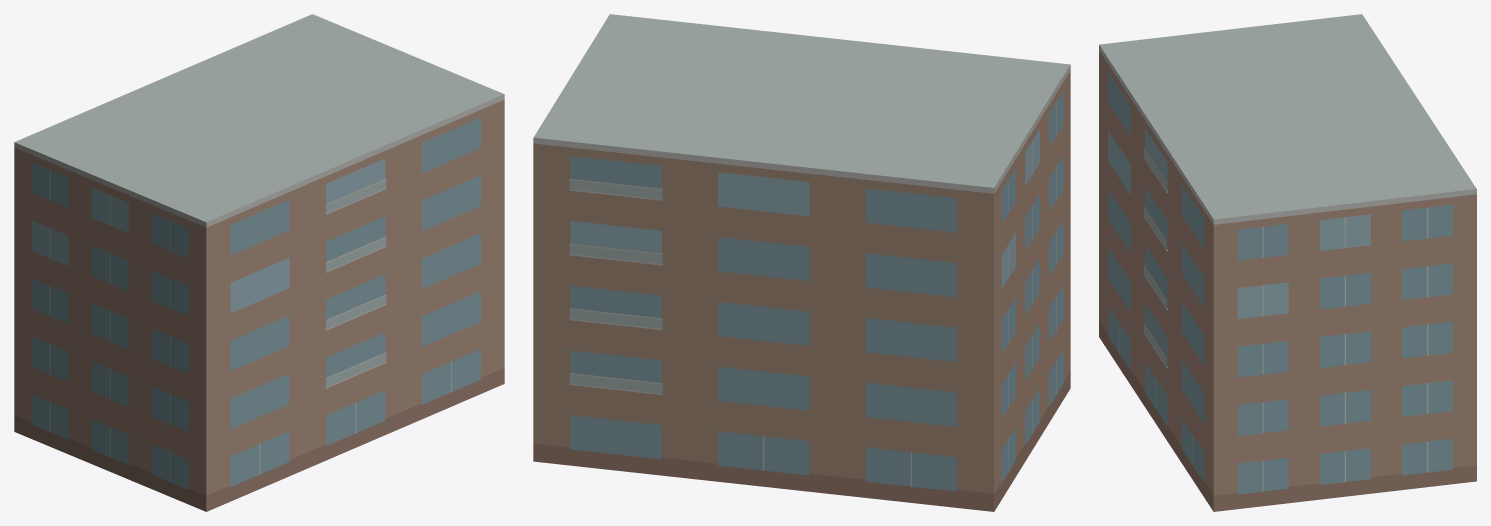
File: survey-upis-32755743.glb
The picture shows the model from 3 angles, left to right: view 1: azimuth 30°, elevation 25°; view 2: azimuth 150°, elevation 25°; view 3: azimuth 270°, elevation 25°; orthographic projection. The views are drawn at different scales.
Visible parts, largest first — view 1: survey-upis-32755743.tmp; view 2: survey-upis-32755743.tmp; view 3: survey-upis-32755743.tmp.
Part boxes in pixels (x1,y1,x2,y2): survey-upis-32755743.tmp: (14, 14, 504, 511); survey-upis-32755743.tmp: (533, 14, 1070, 511); survey-upis-32755743.tmp: (1099, 14, 1476, 511).
Size of the model in its own units: 20.21 by 13.4 by 15.7.
